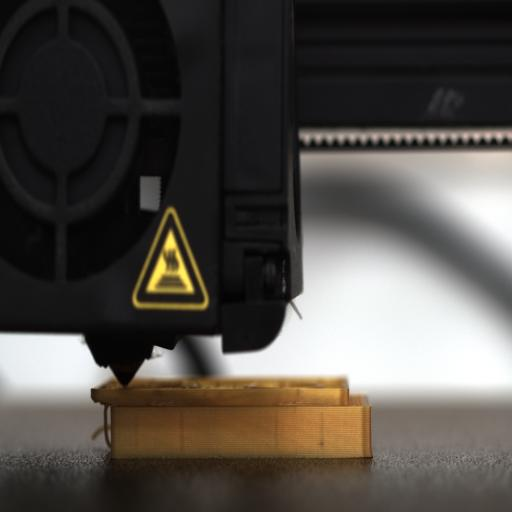layer_shift: (95, 395, 370, 421)
